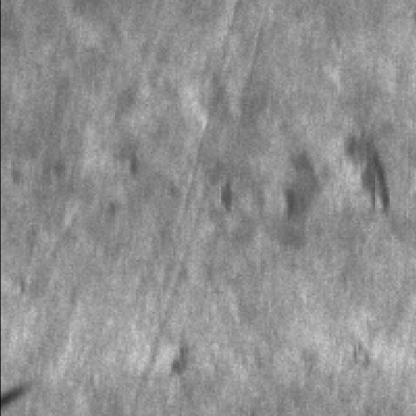rolled-in_scale: (193, 114, 398, 225), (135, 324, 194, 378)
